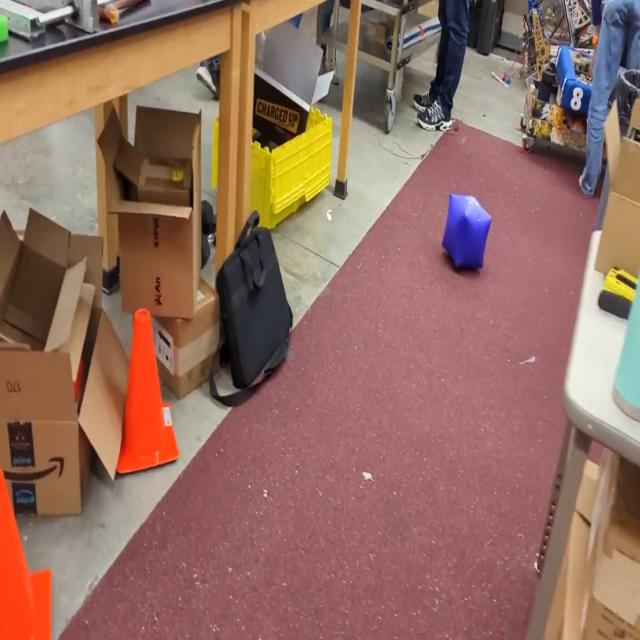frc_cube: (441, 191, 492, 273)
